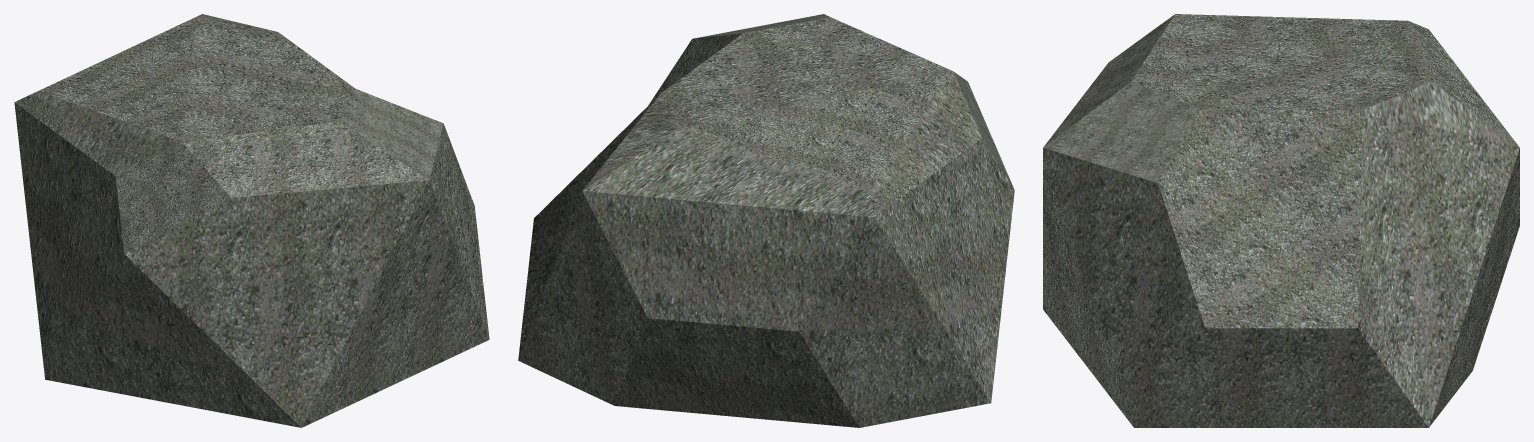
Rendered from Rock2.glb.
The picture shows the model from 3 angles, left to right: view 1: azimuth 30°, elevation 25°; view 2: azimuth 150°, elevation 25°; view 3: azimuth 270°, elevation 25°; orthographic projection. The views are drawn at different scales.
Parts seen in each view (by area): view 1: Rock.001; view 2: Rock.001; view 3: Rock.001.
Boxes of the visible parts, x1,y1,x2,y2 form: Rock.001: (14,14,489,427); Rock.001: (518,14,1014,427); Rock.001: (1043,14,1519,427).
Size of the model in its own units: 1.7 by 1.06 by 1.7.
1 material, 1 textured.
